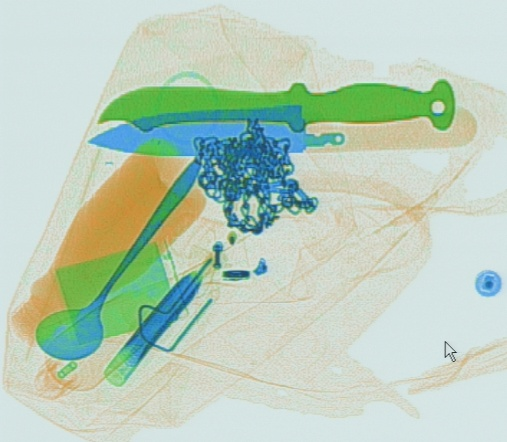knife: (97, 76, 455, 134), (88, 109, 479, 157)
